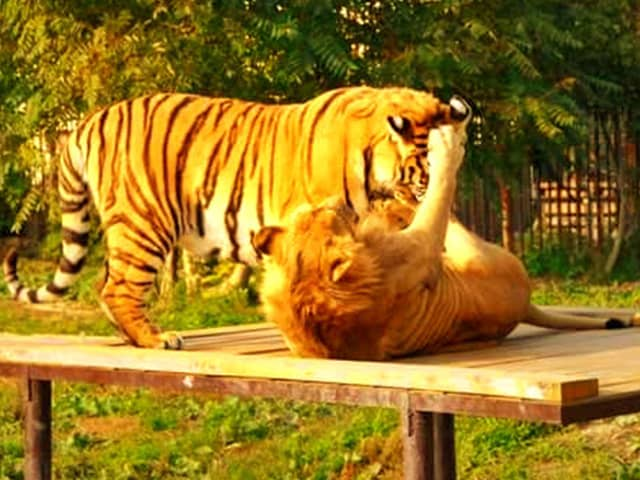lion: (251, 120, 549, 362)
tiger: (53, 89, 473, 350)
